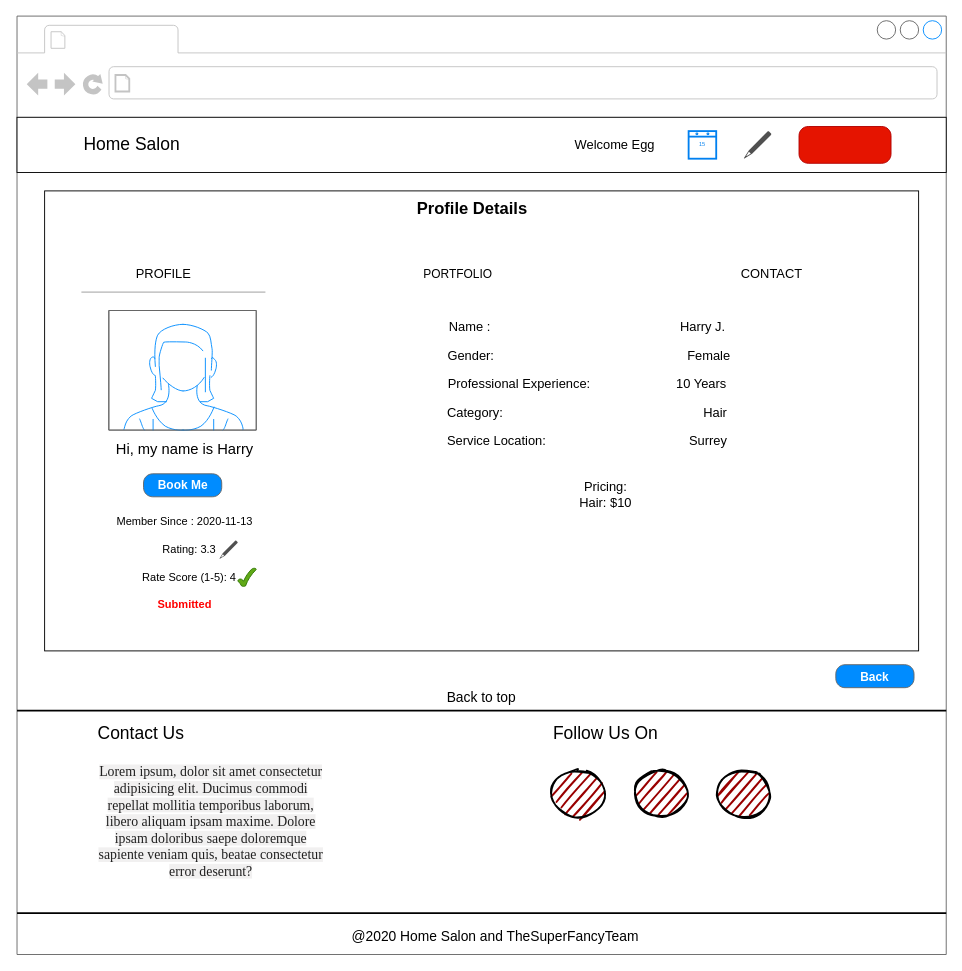
Image size: 962x971. Some labels were removed from this diagram. The shapes that lost their labels are listed below. From the top down, each one's box as (x1, y1, x2, y2) in pixels, then its label:
(71, 26, 173, 51): The Home Salon App
(798, 126, 891, 163): Logout
